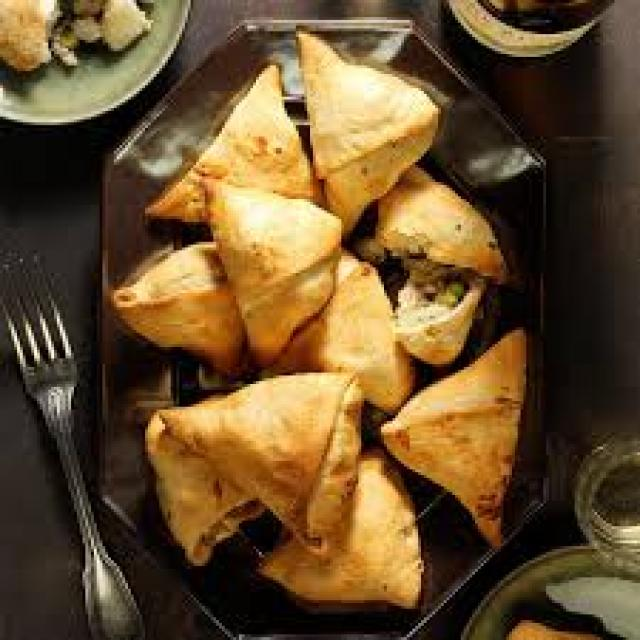SAMOSA: (156, 370, 364, 559), (298, 23, 447, 237), (384, 330, 528, 550), (146, 62, 320, 222), (202, 175, 344, 365), (119, 244, 246, 373)
